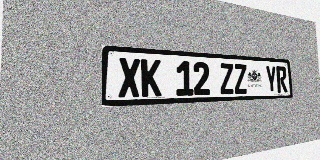1: (175, 61, 194, 96)
2: (193, 62, 210, 95)
K: (141, 59, 161, 97)
R: (276, 66, 287, 93)
X: (118, 58, 141, 98)
Y: (265, 65, 277, 93)
Z: (219, 63, 234, 94), (233, 64, 247, 94)
